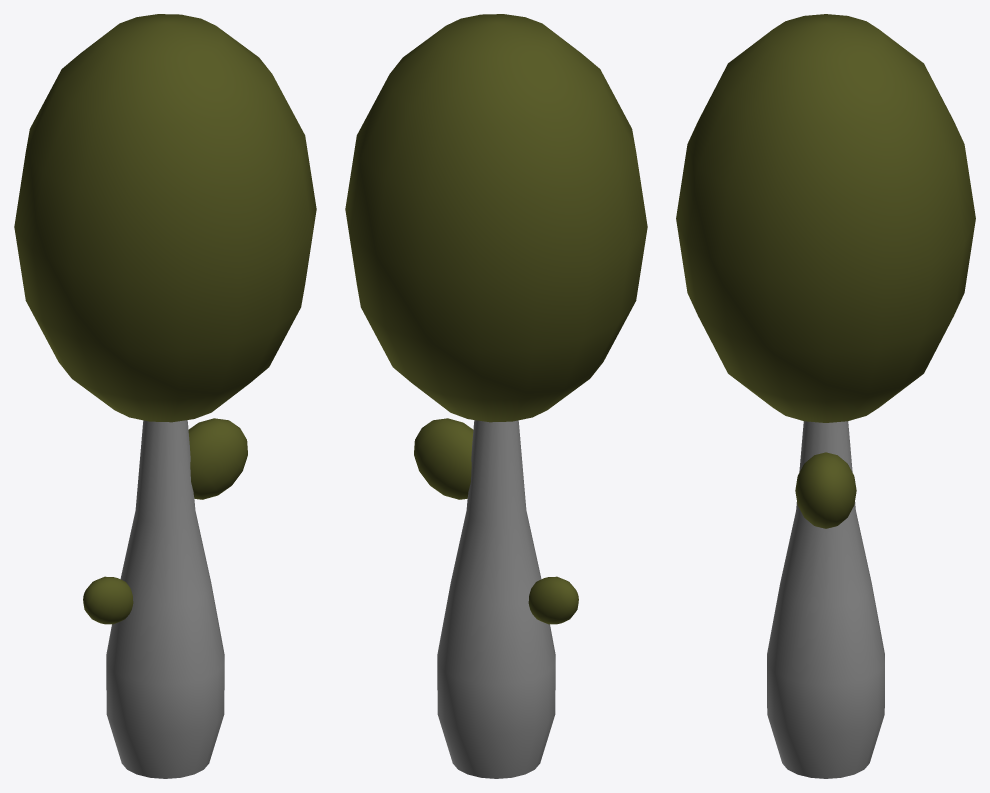
The model's file is M_Tree_02.FBX.
The picture shows the model from 3 angles, left to right: view 1: azimuth 30°, elevation 25°; view 2: azimuth 150°, elevation 25°; view 3: azimuth 270°, elevation 25°; orthographic projection.
Visible parts, largest first — view 1: Tree002; view 2: Tree002; view 3: Tree002.
Part boxes in pixels (x1,y1,x2,y2): Tree002: (14, 14, 316, 778); Tree002: (345, 14, 647, 778); Tree002: (676, 14, 975, 778).
Size of the model in its own units: 1.84 by 1.8 by 4.89.
